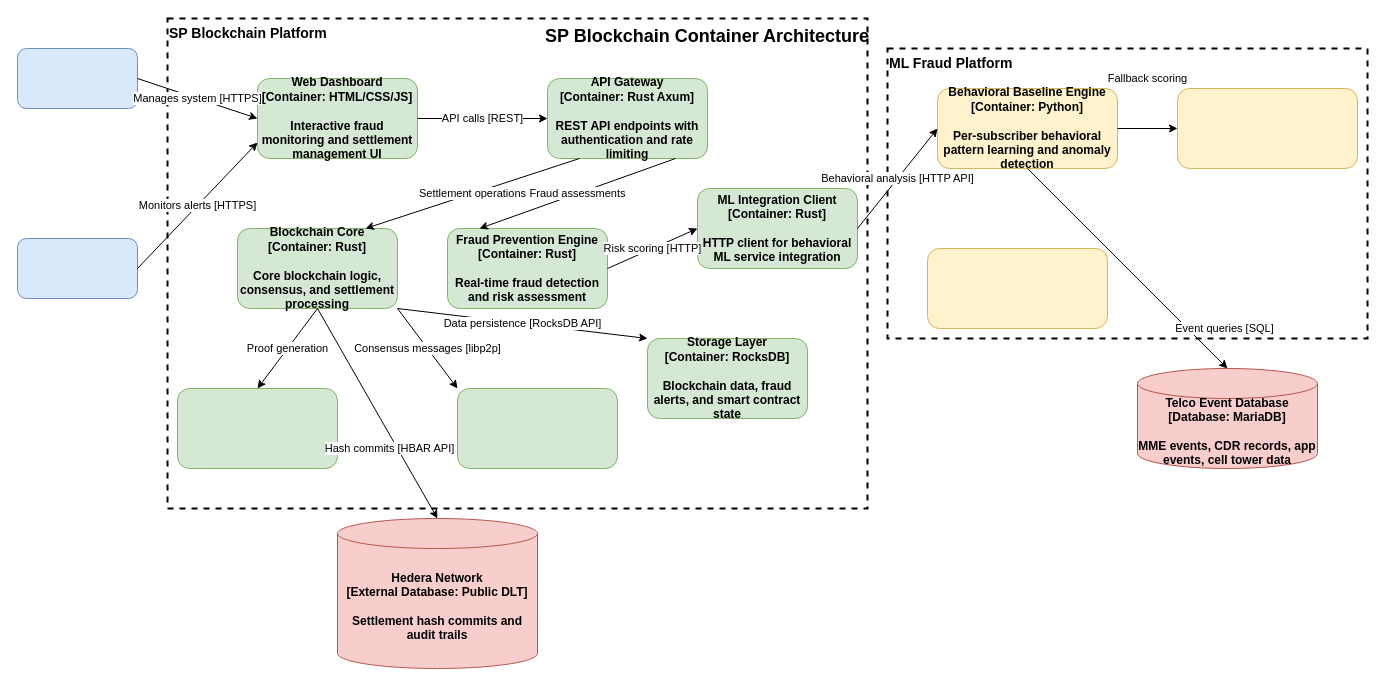
This 1386x686 diagram has some shape labels left out. Here are the shapes that lost their labels. From the top down, the centre of each, then its label:
At [77,78]: "SP Admin [Person]".
At [1267,128]: "XGBoost Fallback [Container: Python] Traditional ML model for edge cases".
At [77,268]: "Fraud Analyst [Person]".
At [1017,288]: "Real-time Detector [Container: Python] Live behavioral anomaly detection service".
At [257,428]: "ZKP Engine [Container: Rust + arkworks] ZK proof generation and verification".
At [537,428]: "P2P Network [Container: Rust libp2p] Inter-SP node communication and consensus".
